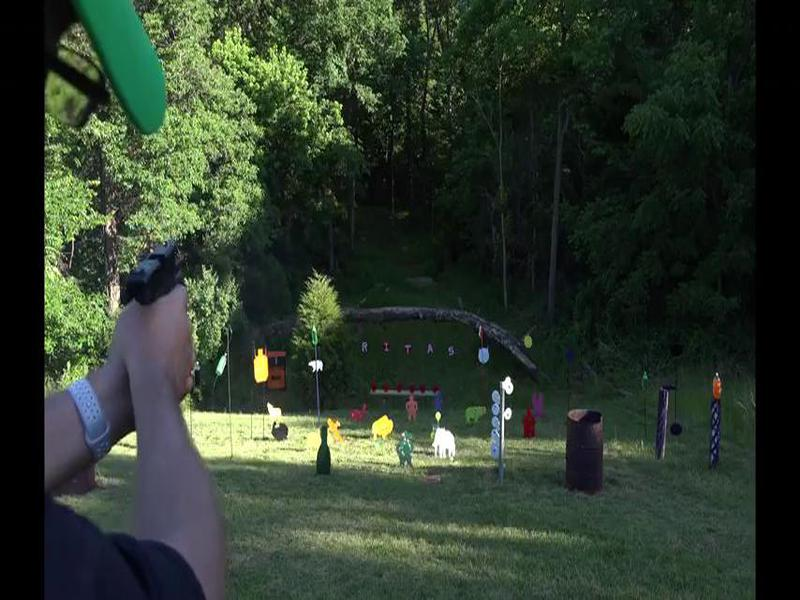Pistola: (119, 222, 197, 335)
